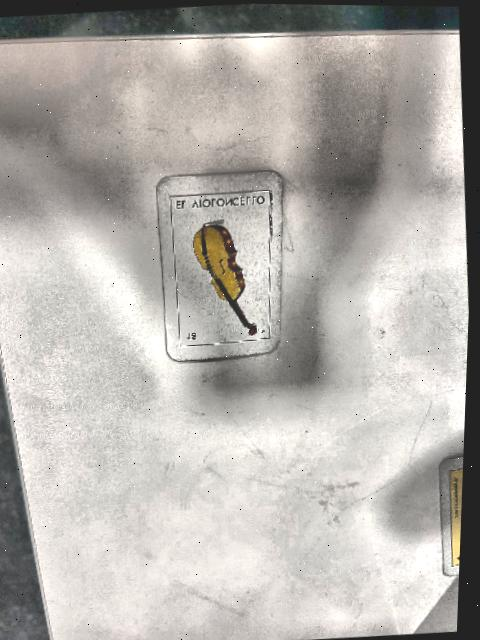El Violoncello: (171, 188, 271, 345)
